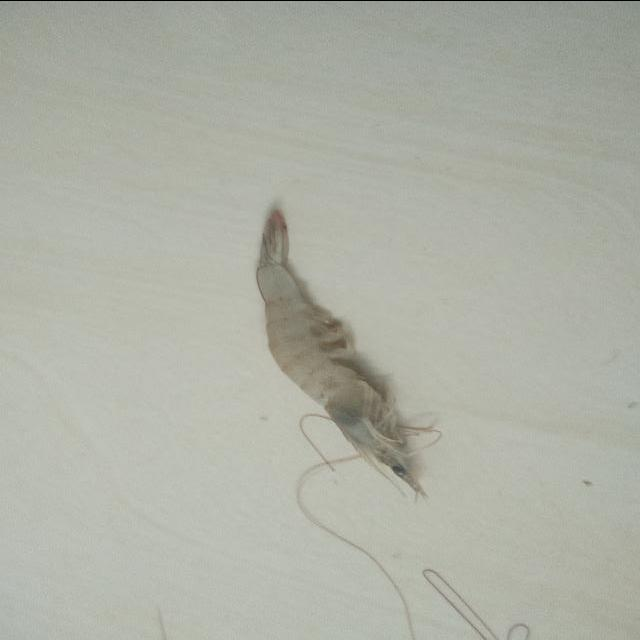shrimp: (256, 210, 430, 497)
